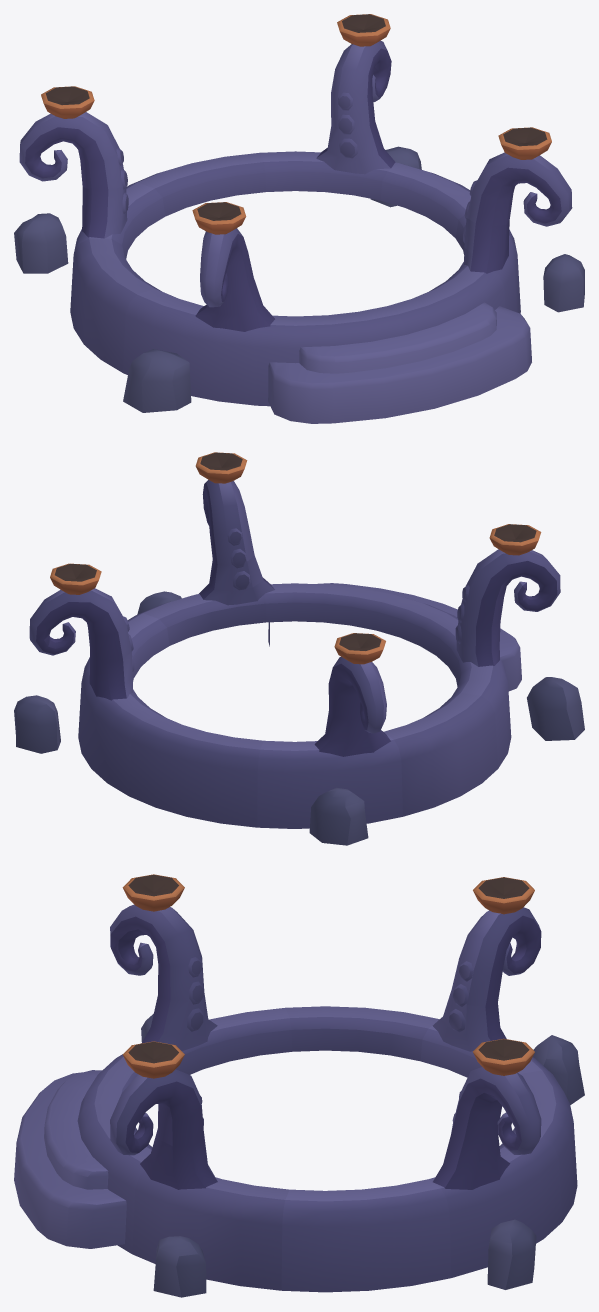
File: Kraken_Altar.glb
The picture shows the model from 3 angles, top to bottom: view 1: azimuth 30°, elevation 25°; view 2: azimuth 150°, elevation 25°; view 3: azimuth 270°, elevation 25°; orthographic projection. The views are drawn at different scales.
Visible parts, largest first — view 1: Kraken_Altar; view 2: Kraken_Altar; view 3: Kraken_Altar.
Boxes of the visible parts, bbox=[...] form: Kraken_Altar: bbox=[14, 14, 584, 423]; Kraken_Altar: bbox=[14, 452, 584, 845]; Kraken_Altar: bbox=[14, 874, 584, 1297].
Bounding box in the file's own units: 9.46 × 3.83 × 9.15.
